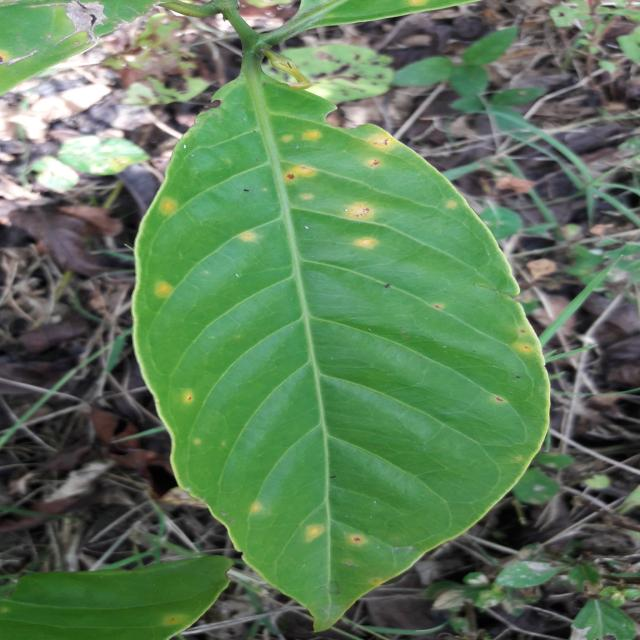Enfermedad-Roya: (131, 50, 550, 633)
